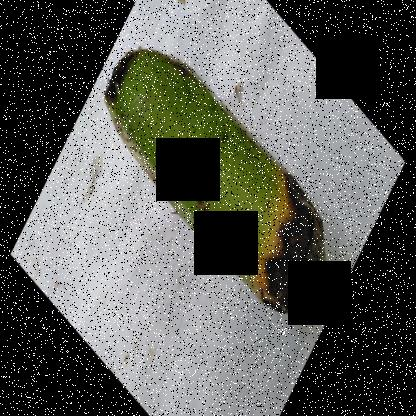rotten: (231, 168, 349, 339)
unripe: (95, 44, 274, 289)
